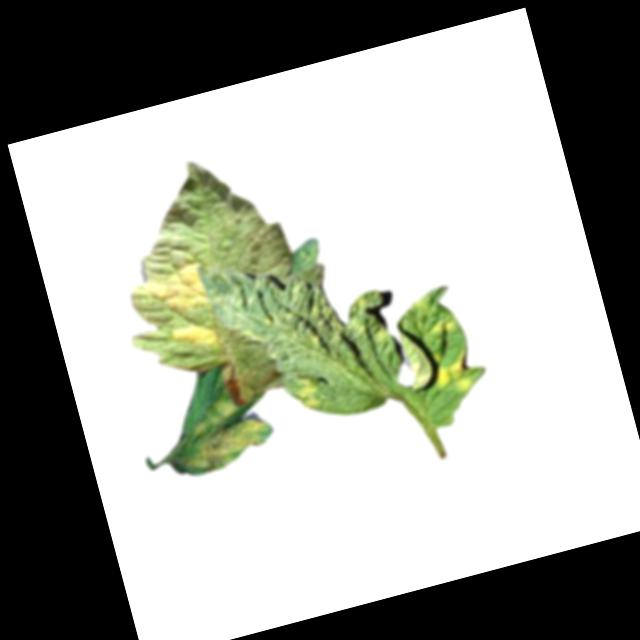Leaf_Mold: (171, 386, 281, 477), (133, 259, 212, 326), (166, 317, 224, 361), (427, 347, 476, 399), (289, 368, 328, 416), (426, 312, 459, 339)
